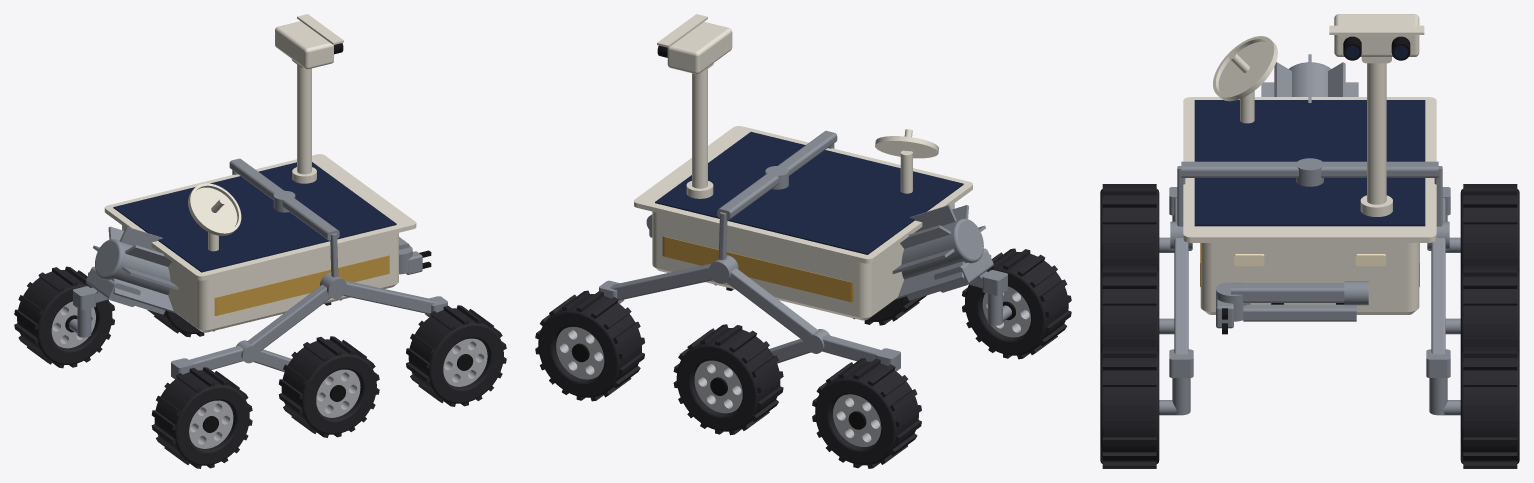
Rendered from rover.glb.
The picture shows the model from 3 angles, left to right: view 1: azimuth 30°, elevation 25°; view 2: azimuth 150°, elevation 25°; view 3: azimuth 270°, elevation 25°; orthographic projection. The views are drawn at different scales.
Parts seen in each view (by area): view 1: panel, body, tyre_rr, tyre_rf, tyre_rm, power, tyre_lr, deck, rocker_r, foil, housing, differential (+10 smaller); view 2: panel, body, tyre_lm, tyre_lr, tyre_lf, power, tyre_rr, deck, rocker_l, foil, housing, differential (+9 smaller); view 3: panel, body, deck, tyre_lf, tyre_rf, arm, differential, tyre_lm, tyre_rm, tyre_lr, tyre_rr, rocker_l (+9 smaller).
Part boxes in pixels (x1=…): panel: x1=113, y1=162, x2=396, y2=272; body: x1=122, y1=225, x2=398, y2=332; tyre_rr: x1=151, y1=367, x2=252, y2=468; tyre_rf: x1=406, y1=305, x2=506, y2=406; tyre_rm: x1=279, y1=336, x2=379, y2=437; power: x1=86, y1=226, x2=178, y2=314; tyre_lr: x1=14, y1=266, x2=114, y2=368; deck: x1=104, y1=154, x2=416, y2=280; rocker_r: x1=247, y1=272, x2=447, y2=351; foil: x1=214, y1=255, x2=389, y2=315; housing: x1=275, y1=14, x2=343, y2=69; differential: x1=229, y1=158, x2=339, y2=277; panel: x1=655, y1=132, x2=963, y2=254; body: x1=652, y1=203, x2=954, y2=320; tyre_lm: x1=673, y1=324, x2=783, y2=435; tyre_lr: x1=812, y1=358, x2=921, y2=468; tyre_lf: x1=535, y1=290, x2=644, y2=401; power: x1=892, y1=204, x2=993, y2=300; tyre_rr: x1=962, y1=248, x2=1071, y2=359; deck: x1=634, y1=126, x2=972, y2=263; rocker_l: x1=599, y1=255, x2=818, y2=340; foil: x1=662, y1=236, x2=853, y2=302; housing: x1=657, y1=14, x2=732, y2=74; differential: x1=717, y1=130, x2=837, y2=260; panel: x1=1194, y1=100, x2=1425, y2=226; body: x1=1200, y1=243, x2=1419, y2=314; deck: x1=1183, y1=97, x2=1436, y2=242; tyre_lf: x1=1460, y1=346, x2=1519, y2=468; tyre_rf: x1=1100, y1=346, x2=1159, y2=468; arm: x1=1216, y1=281, x2=1368, y2=328; differential: x1=1177, y1=158, x2=1442, y2=226; tyre_lm: x1=1460, y1=265, x2=1519, y2=354; tyre_rm: x1=1100, y1=265, x2=1159, y2=354; tyre_lr: x1=1460, y1=184, x2=1519, y2=272; tyre_rr: x1=1100, y1=184, x2=1159, y2=272; rocker_l: x1=1426, y1=221, x2=1460, y2=415.
Bounding box in the file's own units: 2501 × 2221 × 2070.
